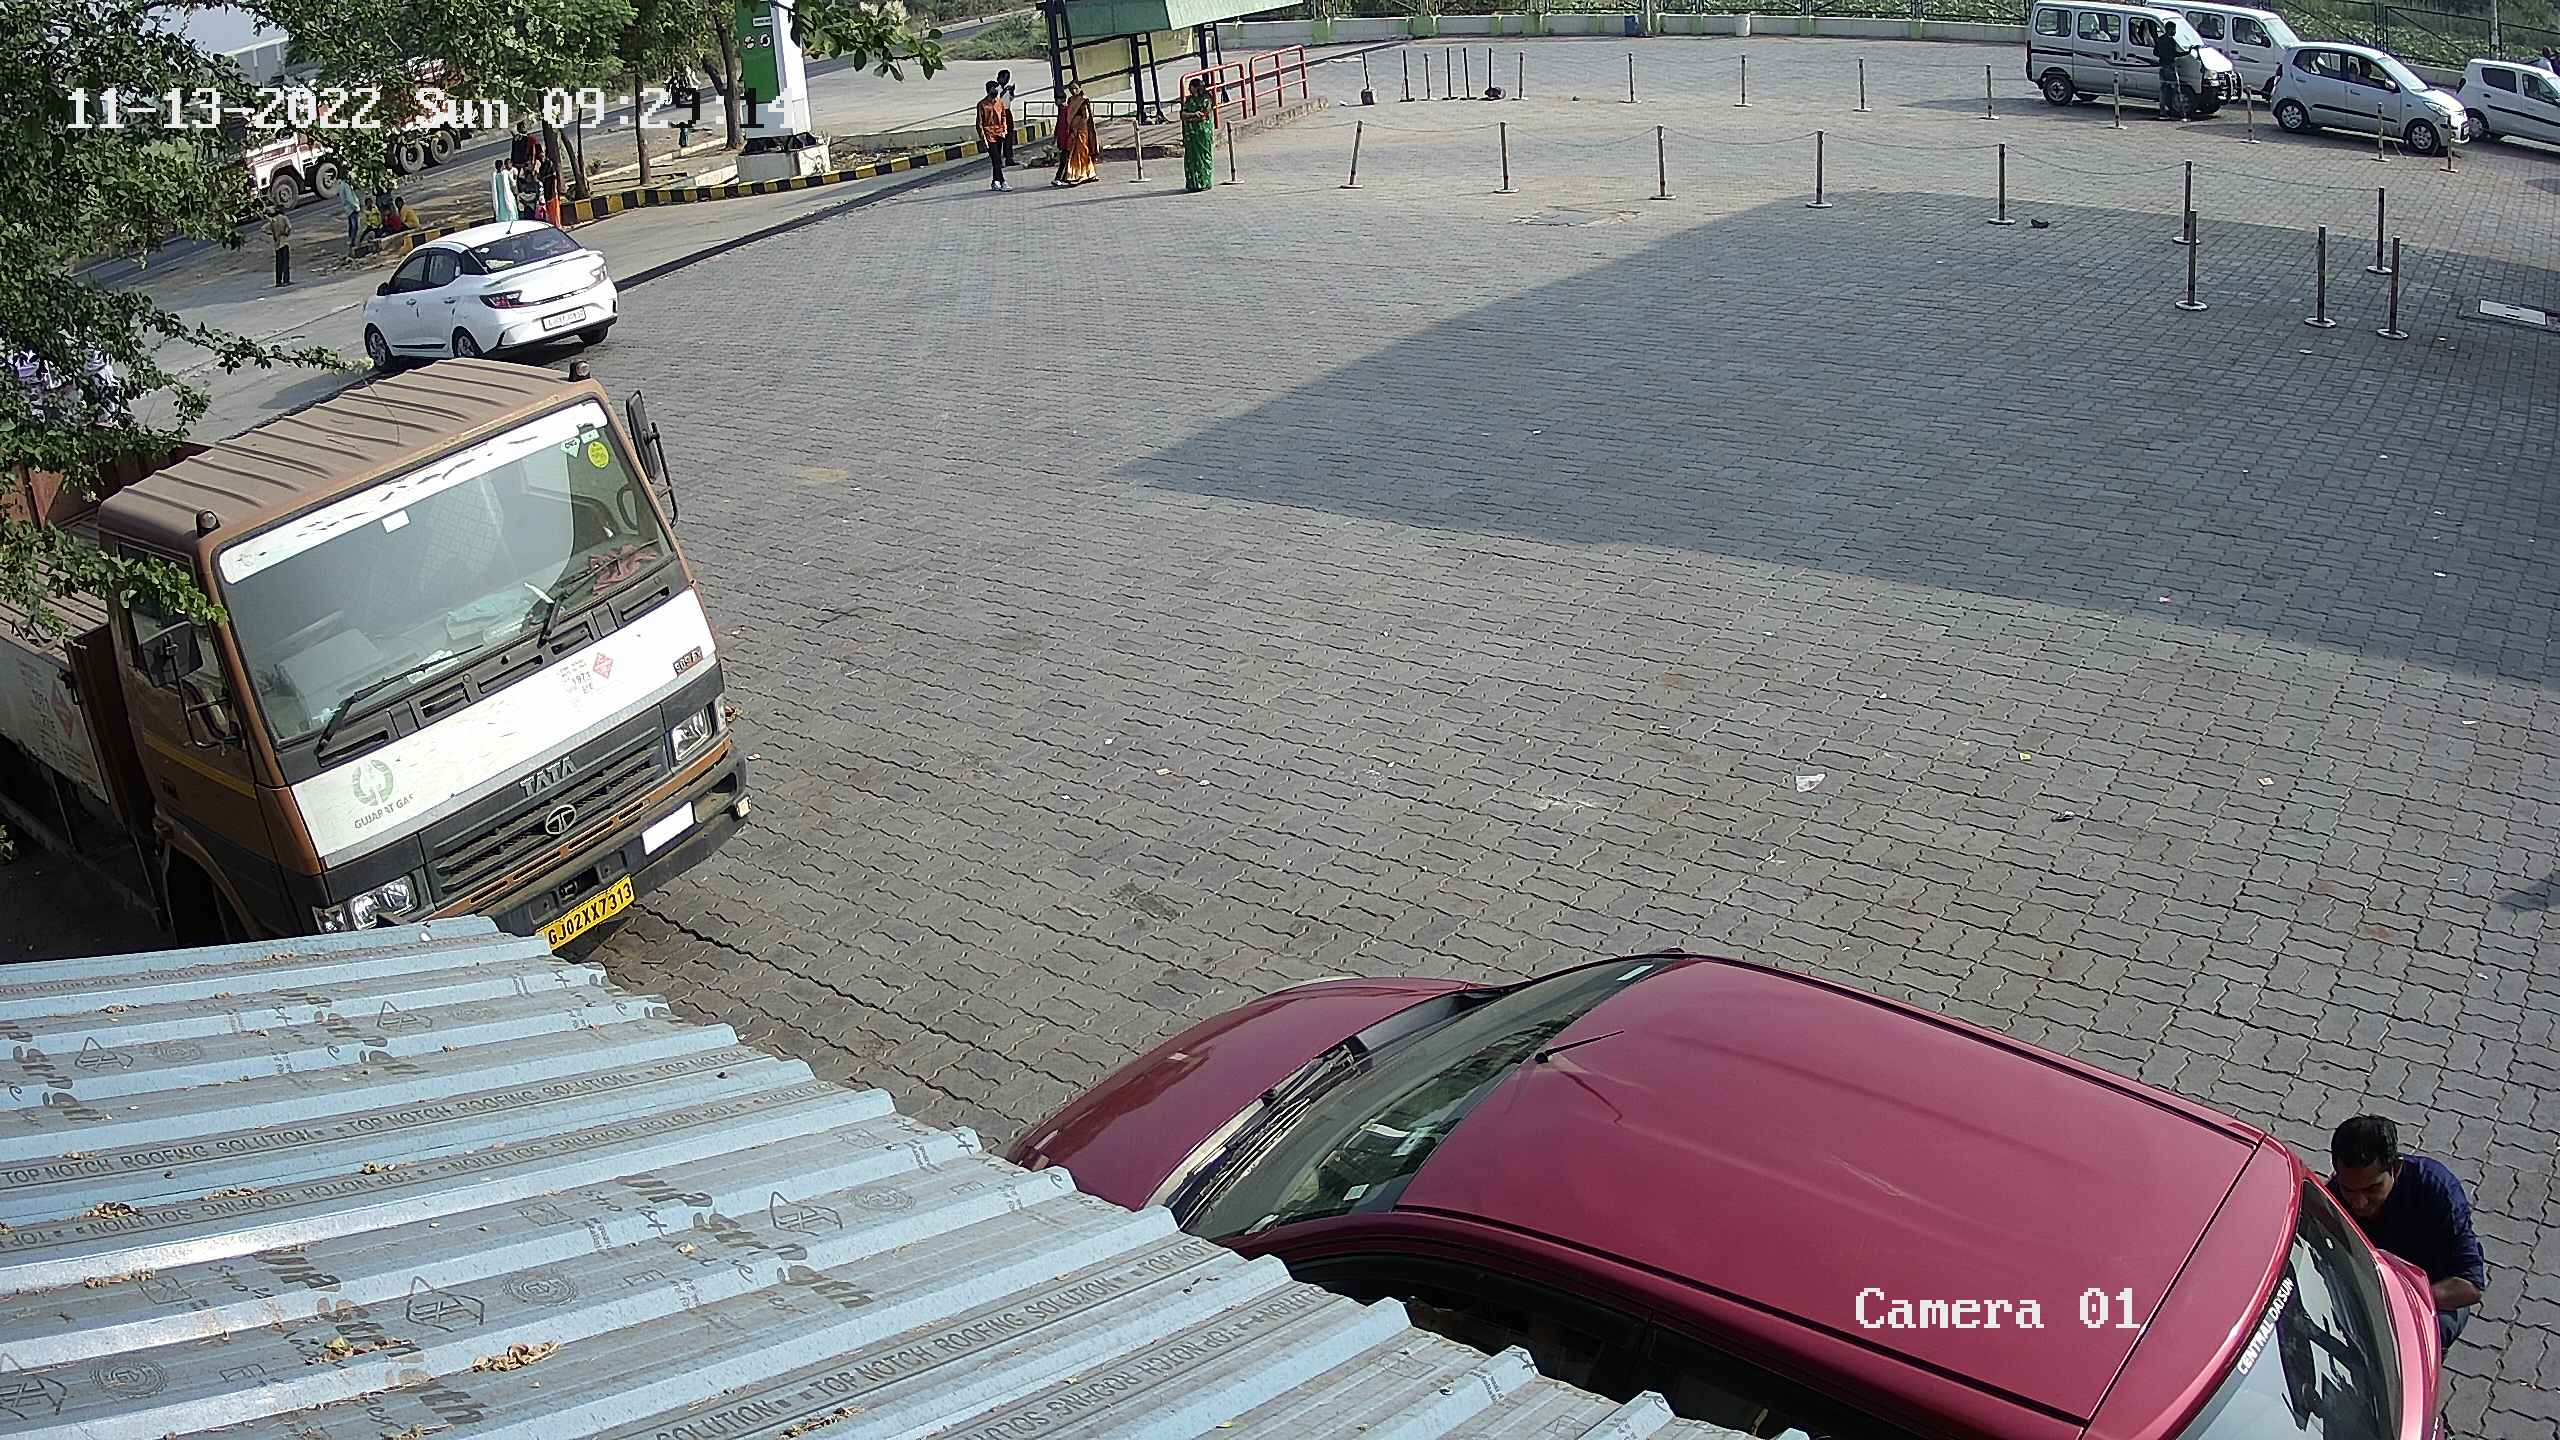Car: (993, 925, 2486, 1435), (348, 213, 631, 367), (2011, 0, 2254, 125), (2258, 32, 2483, 164), (2136, 0, 2319, 111), (2442, 44, 2556, 164)
HMV: (0, 345, 761, 964)
